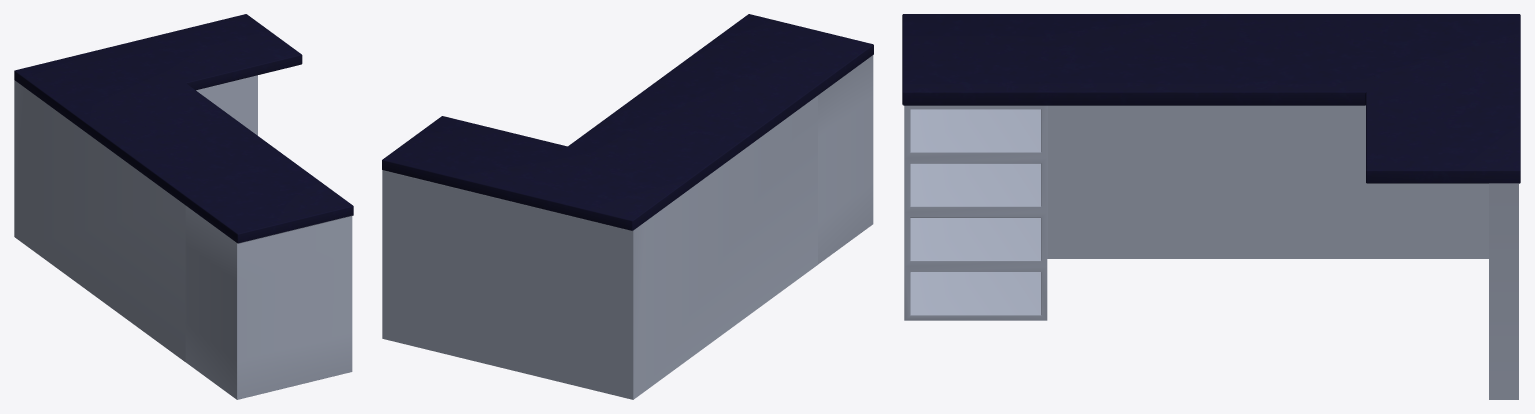
Rendered from l-shaped_desk_table.glb.
3 renders of one model, left to right at view 1: azimuth 30°, elevation 25°; view 2: azimuth 150°, elevation 25°; view 3: azimuth 270°, elevation 25°, orthographic. The views are drawn at different scales.
Visible parts, largest first — view 1: Cube.002_2; view 2: Cube.002_2; view 3: Cube.002_2.
Part boxes in pixels (x1=…): Cube.002_2: x1=14, y1=14, x2=353, y2=399; Cube.002_2: x1=382, y1=14, x2=873, y2=399; Cube.002_2: x1=902, y1=14, x2=1520, y2=399.
Bounding box in the file's own units: 1.2 × 0.82 × 2.
2 materials, 2 textured.
